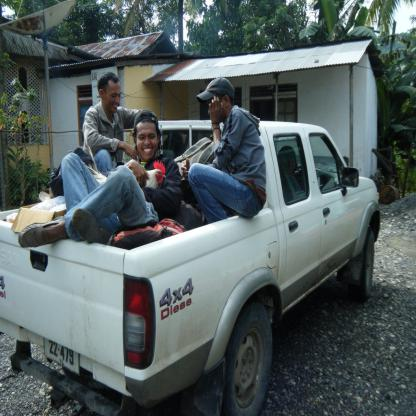Truck: (0, 120, 381, 415)
